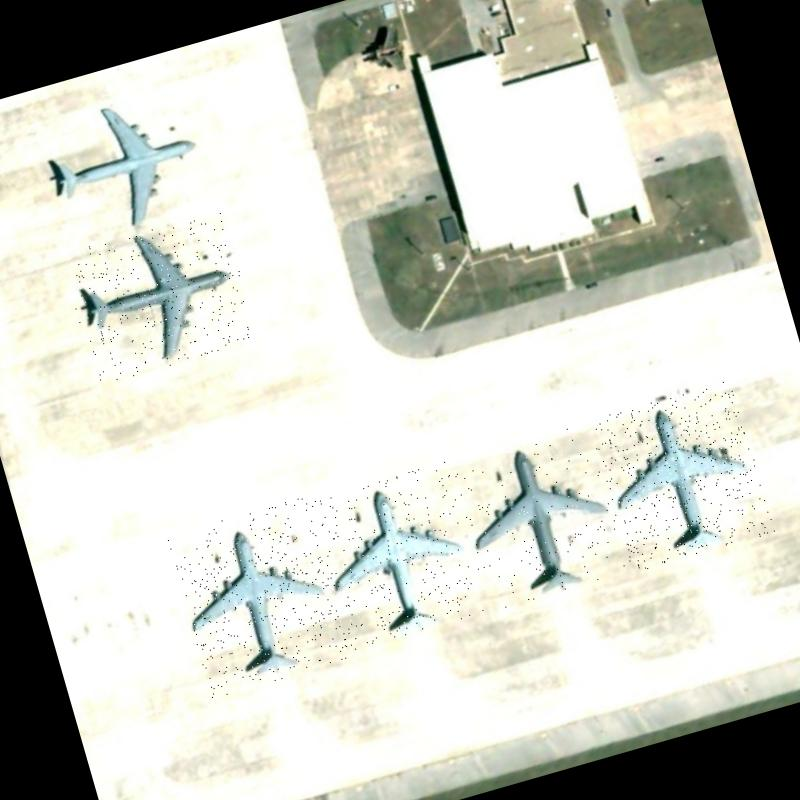A4: (165, 496, 352, 698), (443, 420, 632, 614), (588, 379, 775, 573), (60, 208, 258, 386), (308, 462, 484, 650), (27, 79, 216, 251)
